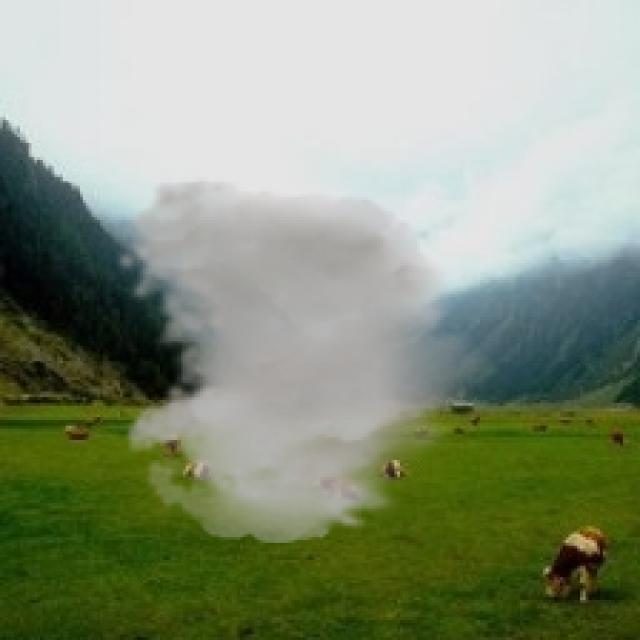smoke: (114, 177, 500, 543)
